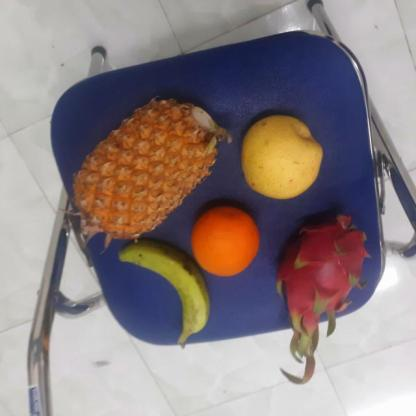orange: (188, 203, 262, 276)
pear: (235, 115, 323, 199)
pineapple: (70, 99, 224, 238)
pitaya: (272, 210, 365, 324)
